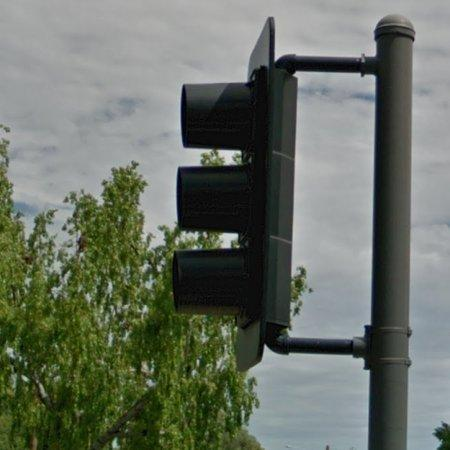traffic lights: (166, 14, 298, 364)
